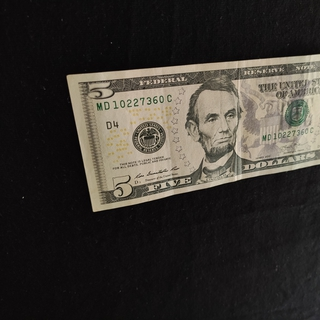5USDFront: (65, 50, 320, 213)
